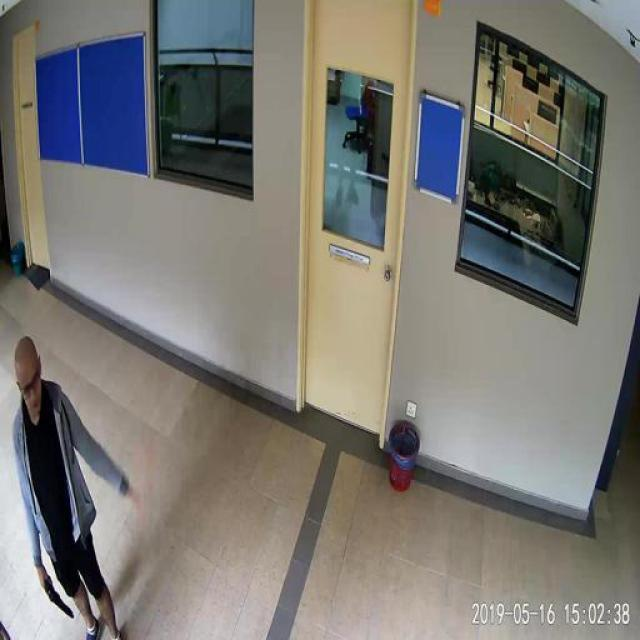weapon: (37, 571, 76, 621)
